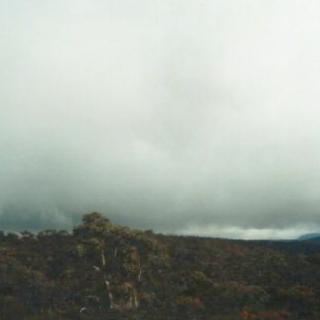Stratocumulus: (0, 0, 320, 237)
